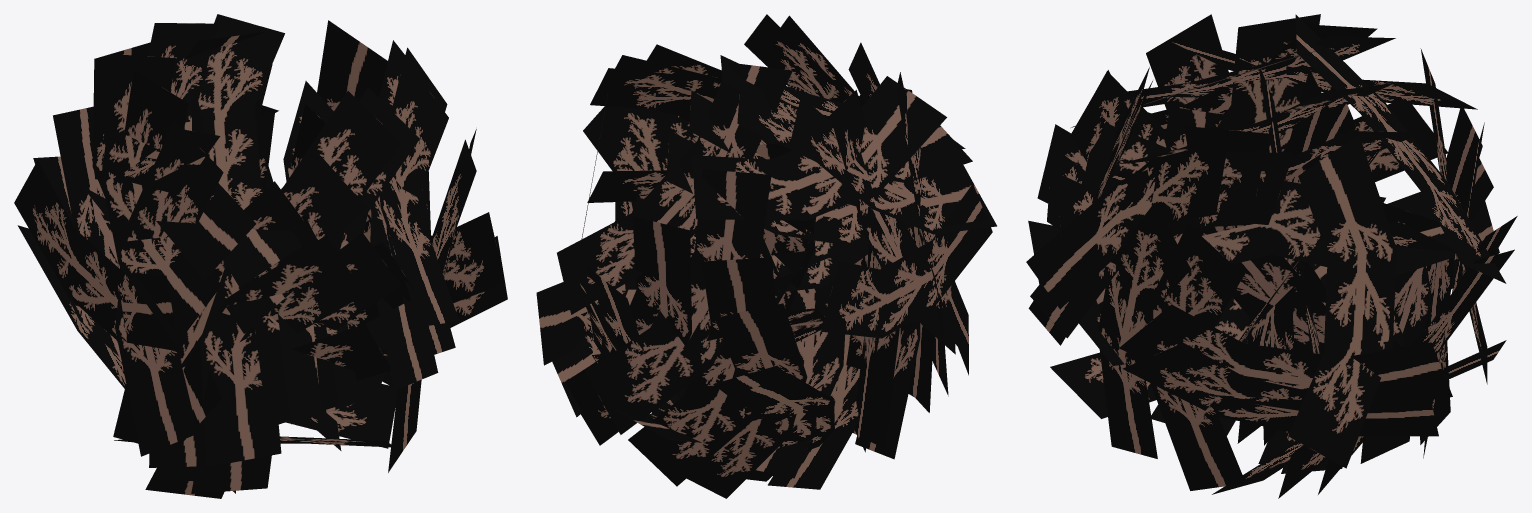
The model's file is tumbleweed.glb.
3 renders of one model, left to right at view 1: azimuth 30°, elevation 25°; view 2: azimuth 150°, elevation 25°; view 3: azimuth 270°, elevation 25°, orthographic. The views are drawn at different scales.
Parts seen in each view (by area): view 1: tumbleweed; view 2: tumbleweed; view 3: tumbleweed.
Boxes of the visible parts, bbox=[...] form: tumbleweed: bbox=[14, 14, 507, 498]; tumbleweed: bbox=[536, 14, 996, 498]; tumbleweed: bbox=[1026, 14, 1517, 498].
Size of the model in its own units: 0.9363 by 1.09 by 1.09.
Materials: 1 (1 with a texture image).
